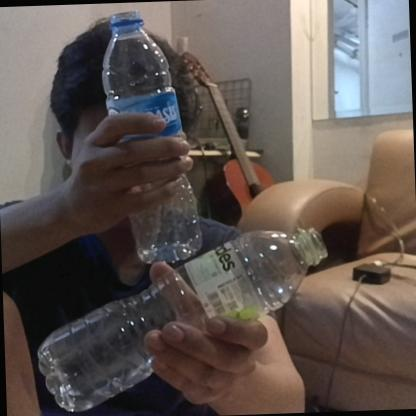plastic_bottles: (28, 224, 335, 414), (98, 8, 207, 267)
